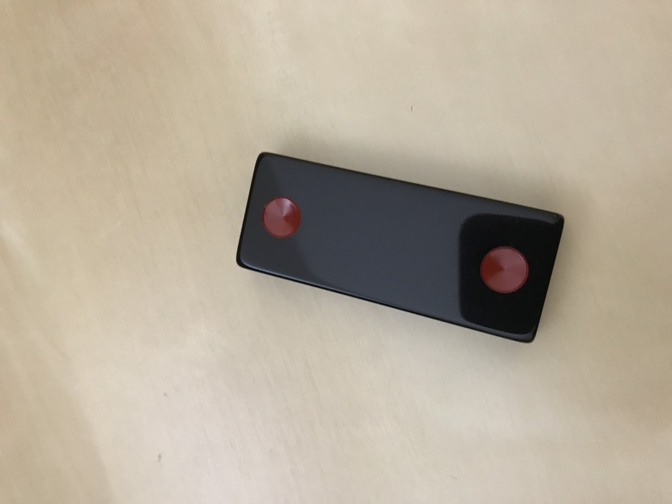earth: (237, 151, 565, 345)
